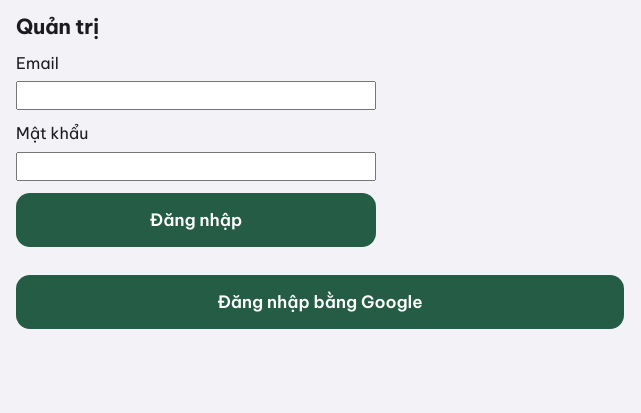
Test: password login failure stays on login and displays an error
Type "admin@example.test" into the field labelled "Email" at [196, 96], box [16,81,376,110]
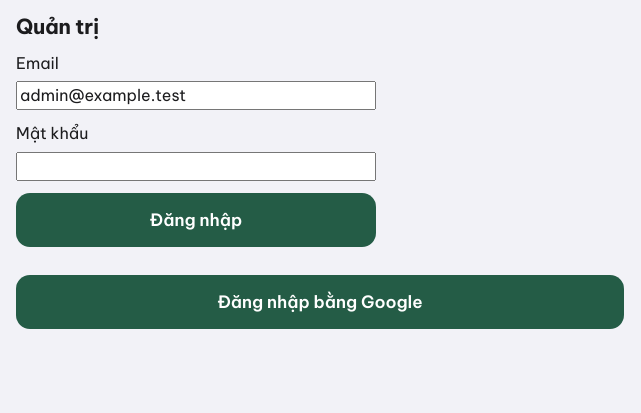
Type "test-only-password" into the password field labelled "Mật khẩu" at [196, 166], box [16,152,376,181]
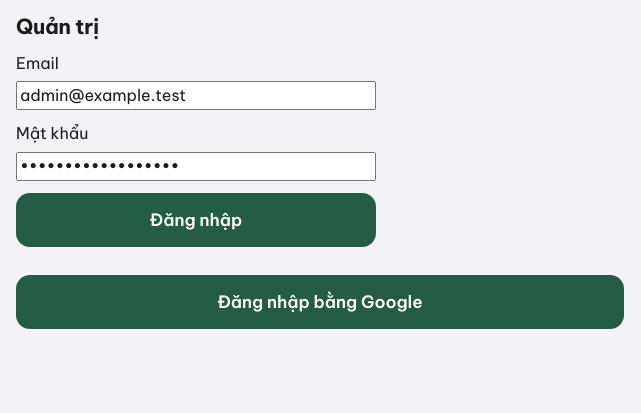
Click the button "Đăng nhập" at [196, 220], box [16,193,376,247]
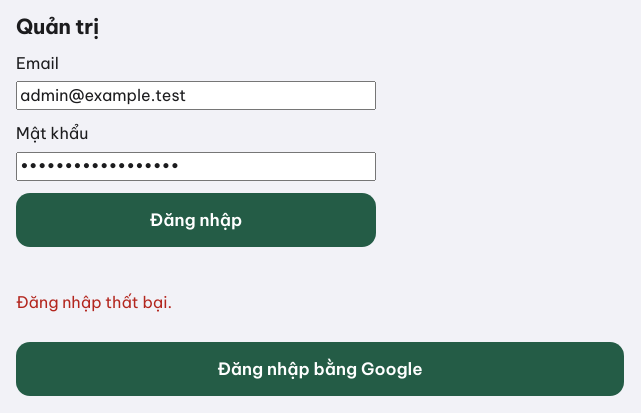
Expected: the button "Đăng nhập bằng Google" is shown, [16,342,624,396]
Now the message "Đăng nhập thất bại." is shown, box [16,292,172,312]
